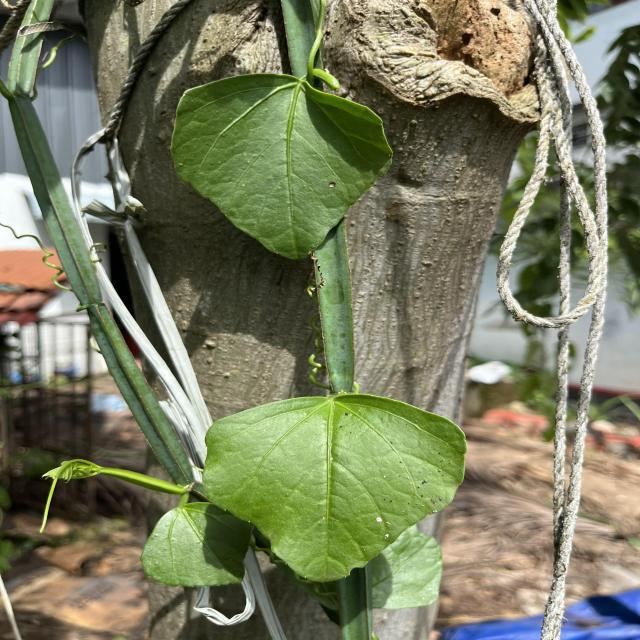Cissus quadrangularis: (199, 390, 469, 586), (167, 68, 397, 264), (138, 498, 255, 590)
